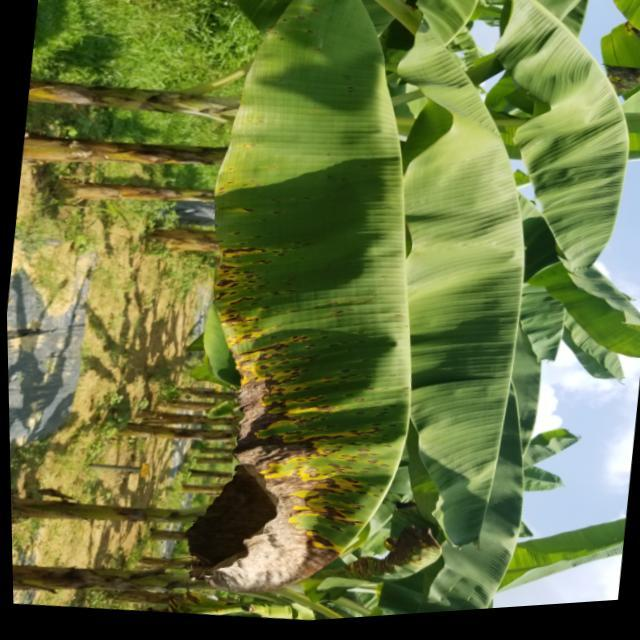Early_rust: (30, 91, 451, 616)
